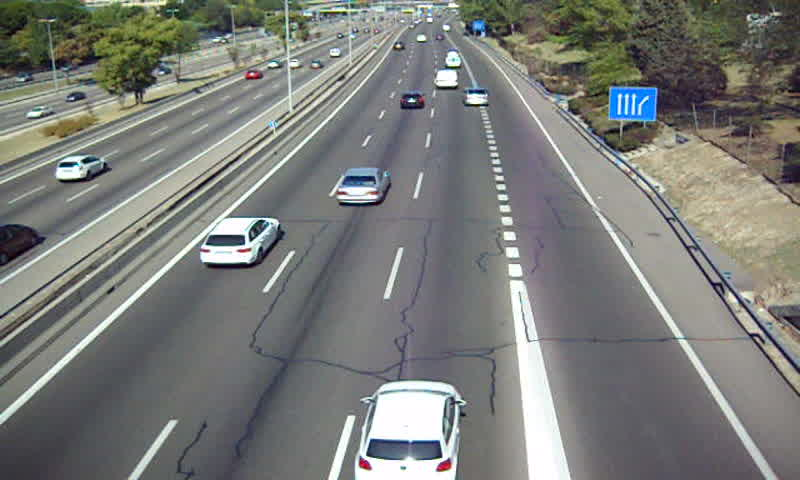car: (354, 379, 461, 480), (200, 217, 280, 266), (337, 167, 391, 207), (463, 86, 491, 107), (398, 92, 425, 111)
van: (434, 69, 459, 91), (447, 54, 462, 69)
